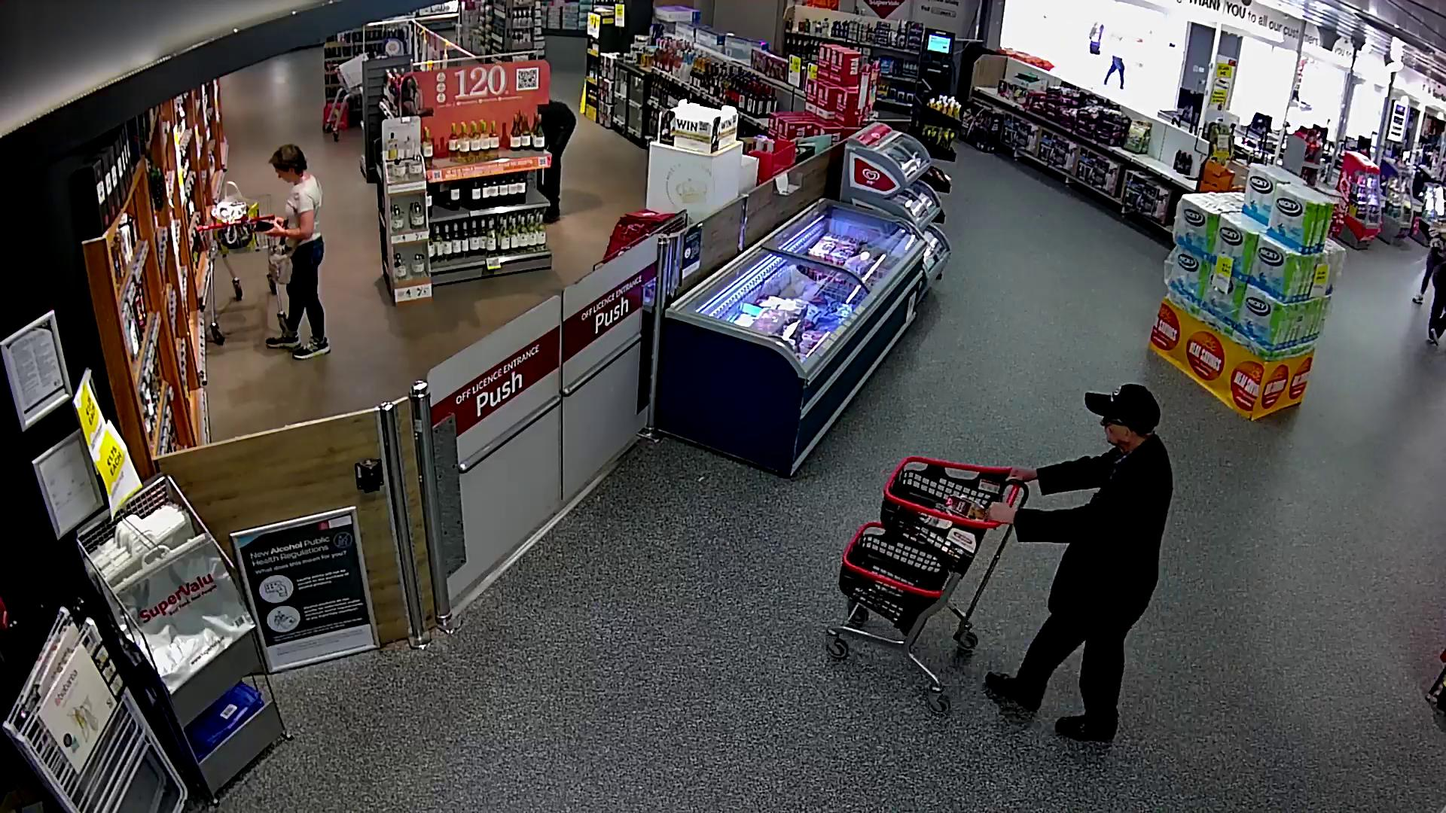backpack-or-handbag: (269, 247, 292, 283)
filled-shopping-bags: (211, 197, 260, 253)
filled-trolly: (825, 455, 1023, 715), (196, 194, 292, 342)
person: (991, 381, 1173, 737), (265, 143, 331, 359)
person-with-basket-trolly-shopping-bag-s-and-backpack-handbag: (195, 143, 330, 359)
person-with-filled-basket-trolly: (826, 380, 1173, 737)
